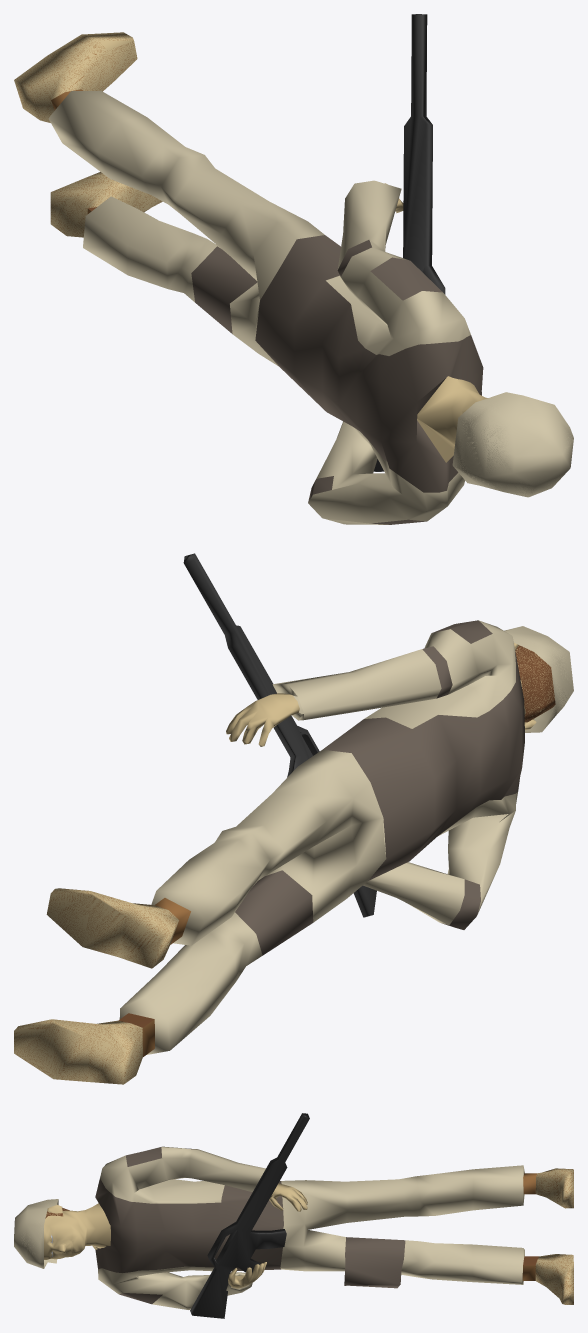
Rendered from soldier.dae.
The picture shows the model from 3 angles, top to bottom: view 1: azimuth 30°, elevation 25°; view 2: azimuth 150°, elevation 25°; view 3: azimuth 270°, elevation 25°; orthographic projection. The views are drawn at different scales.
Visible parts, largest first — view 1: coords_ME_ID71_MA_Color_C20, coords_ME_ID21_MA_Color_D10, coords_ME_ID13_MA_Color_D10, coords_ME_ID59_MA_Color_D10, coords_ME_ID45_MA_Color_D10, coords_ME_ID27_MA_Color_D10, coords_ME_ID87_MA_Color_007, coords_ME_ID95_MA_Shape_004, coords_ME_ID51_MA_Shape_004, coords_ME_ID143_MA_Color_C20, coords_ME_ID39_MA_Shape_004, coords_ME_ID173_MA_Color_C20 (+2 smaller); view 2: coords_ME_ID21_MA_Color_D10, coords_ME_ID71_MA_Color_C20, coords_ME_ID13_MA_Color_D10, coords_ME_ID27_MA_Color_D10, coords_ME_ID45_MA_Color_D10, coords_ME_ID51_MA_Shape_004, coords_ME_ID95_MA_Shape_004, coords_ME_ID87_MA_Color_007, coords_ME_ID143_MA_Color_C20, coords_ME_ID59_MA_Color_D10, coords_ME_ID95_MA_Color_C13, coords_ME_ID33_MA_Shape_004 (+3 smaller); view 3: coords_ME_ID21_MA_Color_D10, coords_ME_ID71_MA_Color_C20, coords_ME_ID13_MA_Color_D10, coords_ME_ID87_MA_Color_007, coords_ME_ID27_MA_Color_D10, coords_ME_ID45_MA_Color_D10, coords_ME_ID39_MA_Shape_004, coords_ME_ID143_MA_Color_C20, coords_ME_ID59_MA_Color_D10, coords_ME_ID51_MA_Shape_004, coords_ME_ID95_MA_Shape_004, coords_ME_ID33_MA_Shape_004 (+6 smaller).
Part boxes in pixels (box(x1,y1,x2,y2)): coords_ME_ID71_MA_Color_C20: box(255, 235, 483, 492); coords_ME_ID21_MA_Color_D10: box(48, 90, 324, 366); coords_ME_ID13_MA_Color_D10: box(326, 180, 470, 355); coords_ME_ID59_MA_Color_D10: box(452, 392, 573, 497); coords_ME_ID45_MA_Color_D10: box(308, 421, 464, 524); coords_ME_ID27_MA_Color_D10: box(83, 196, 220, 302); coords_ME_ID87_MA_Color_007: box(374, 14, 445, 471); coords_ME_ID95_MA_Shape_004: box(14, 32, 137, 122); coords_ME_ID51_MA_Shape_004: box(50, 172, 162, 237); coords_ME_ID143_MA_Color_C20: box(191, 246, 257, 333); coords_ME_ID39_MA_Shape_004: box(417, 376, 487, 462); coords_ME_ID173_MA_Color_C20: box(370, 257, 442, 300); coords_ME_ID21_MA_Color_D10: box(151, 749, 386, 945); coords_ME_ID71_MA_Color_C20: box(323, 650, 524, 880); coords_ME_ID13_MA_Color_D10: box(272, 620, 515, 728); coords_ME_ID27_MA_Color_D10: box(119, 912, 262, 1054); coords_ME_ID45_MA_Color_D10: box(363, 792, 517, 924); coords_ME_ID51_MA_Shape_004: box(14, 1019, 142, 1084); coords_ME_ID95_MA_Shape_004: box(46, 888, 178, 968); coords_ME_ID87_MA_Color_007: box(183, 553, 376, 917); coords_ME_ID143_MA_Color_C20: box(235, 870, 313, 955); coords_ME_ID59_MA_Color_D10: box(504, 626, 573, 732); coords_ME_ID95_MA_Color_C13: box(47, 888, 178, 967); coords_ME_ID33_MA_Shape_004: box(226, 693, 299, 746); coords_ME_ID21_MA_Color_D10: box(280, 1165, 524, 1271); coords_ME_ID71_MA_Color_C20: box(95, 1178, 283, 1272); coords_ME_ID13_MA_Color_D10: box(100, 1146, 265, 1203); coords_ME_ID87_MA_Color_007: box(190, 1113, 309, 1318); coords_ME_ID27_MA_Color_D10: box(401, 1240, 524, 1284); coords_ME_ID45_MA_Color_D10: box(98, 1266, 252, 1309); coords_ME_ID39_MA_Shape_004: box(44, 1203, 110, 1259); coords_ME_ID143_MA_Color_C20: box(344, 1237, 405, 1288); coords_ME_ID59_MA_Color_D10: box(14, 1199, 58, 1268); coords_ME_ID51_MA_Shape_004: box(535, 1254, 573, 1304); coords_ME_ID95_MA_Shape_004: box(535, 1168, 573, 1208); coords_ME_ID33_MA_Shape_004: box(269, 1183, 307, 1211).
Bounding box in the file's own units: 5 × 9.31 × 19.09.
